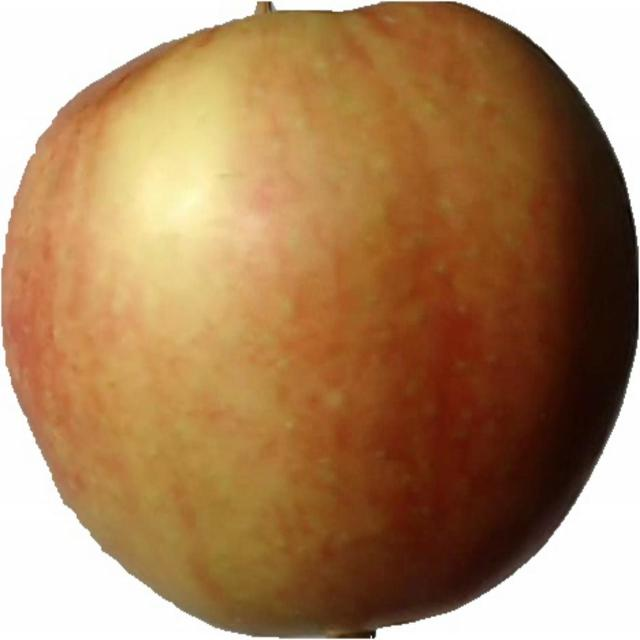apple: (14, 5, 638, 638)
